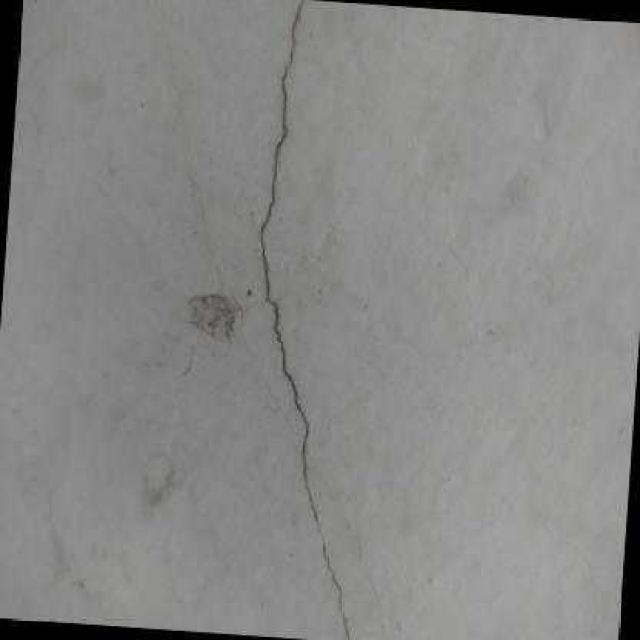D00: (259, 0, 349, 640)
